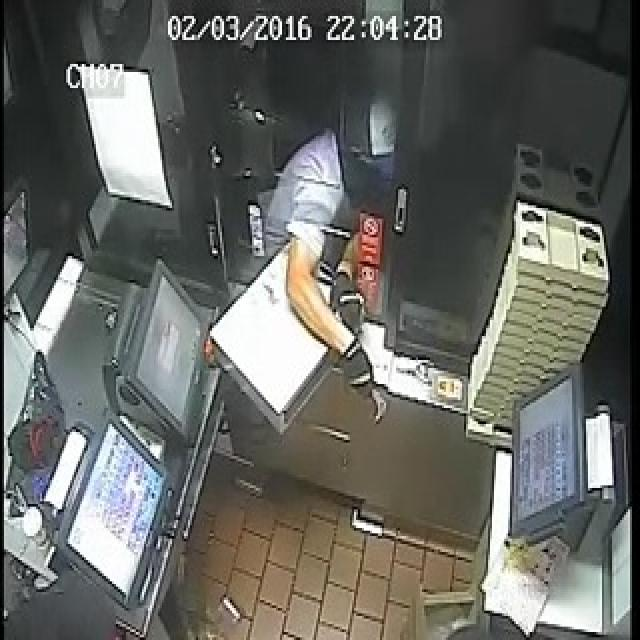thief: (300, 109, 412, 294)
